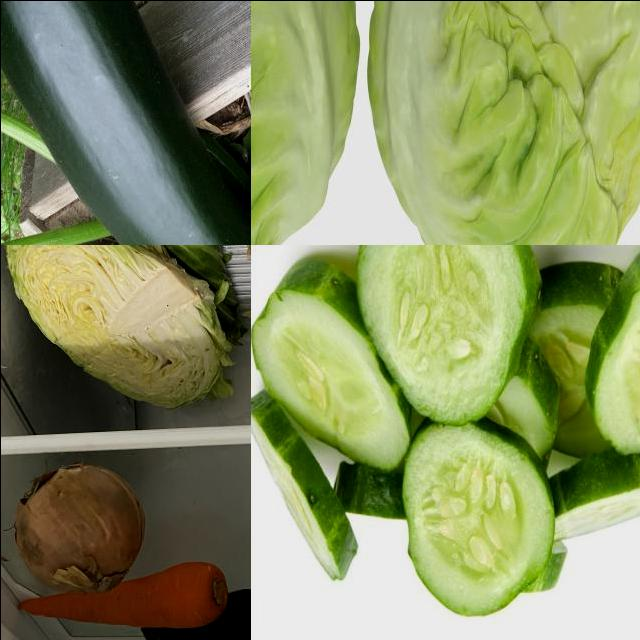cabbage: (368, 1, 640, 245), (2, 245, 238, 412), (251, 1, 363, 245)
carrot: (12, 557, 230, 630)
cucumber: (349, 245, 543, 432), (253, 250, 401, 473), (404, 427, 552, 620), (251, 392, 350, 585), (590, 245, 640, 457), (538, 453, 640, 544)
eggplant: (137, 586, 251, 640)
onion: (10, 458, 148, 594)
zucchini: (1, 1, 251, 245)
